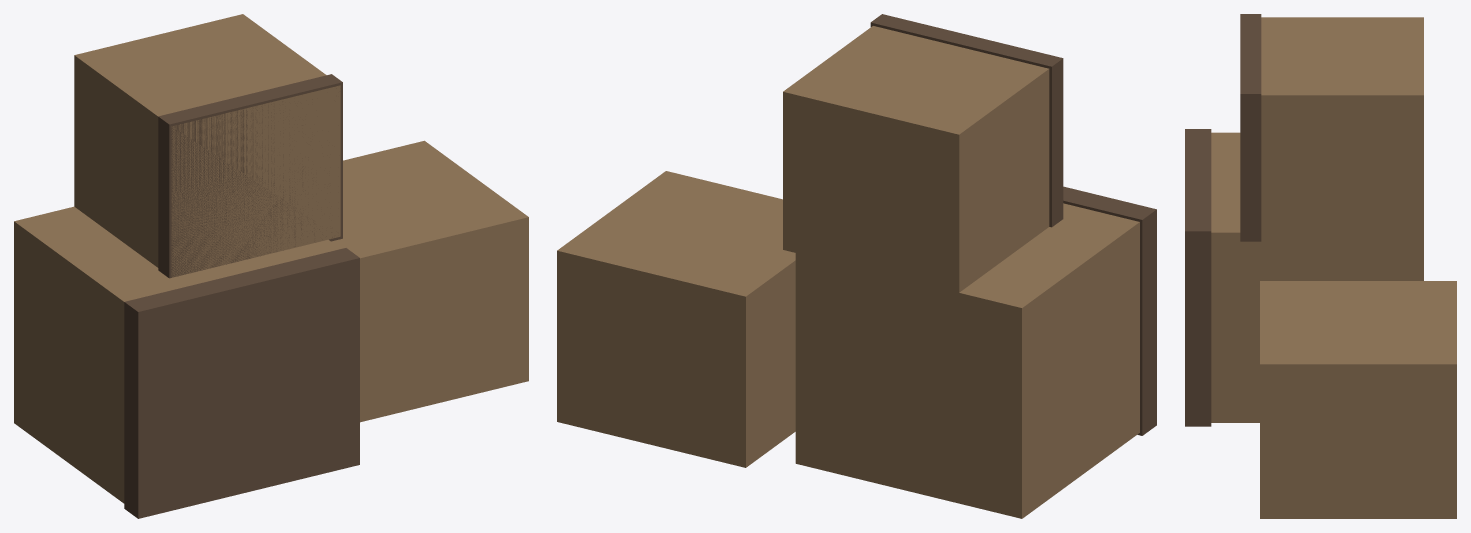
Rendered from crate_stack.glb.
3 renders of one model, left to right at view 1: azimuth 30°, elevation 25°; view 2: azimuth 150°, elevation 25°; view 3: azimuth 270°, elevation 25°, orthographic. The views are drawn at different scales.
Parts seen in each view (by area): view 1: crate_stack; view 2: crate_stack; view 3: crate_stack.
Boxes of the visible parts, x1,y1,x2,y2 form: crate_stack: (14, 14, 528, 518); crate_stack: (557, 14, 1156, 518); crate_stack: (1185, 14, 1456, 518).
Bounding box in the file's own units: 1.79 × 1.42 × 1.03.
